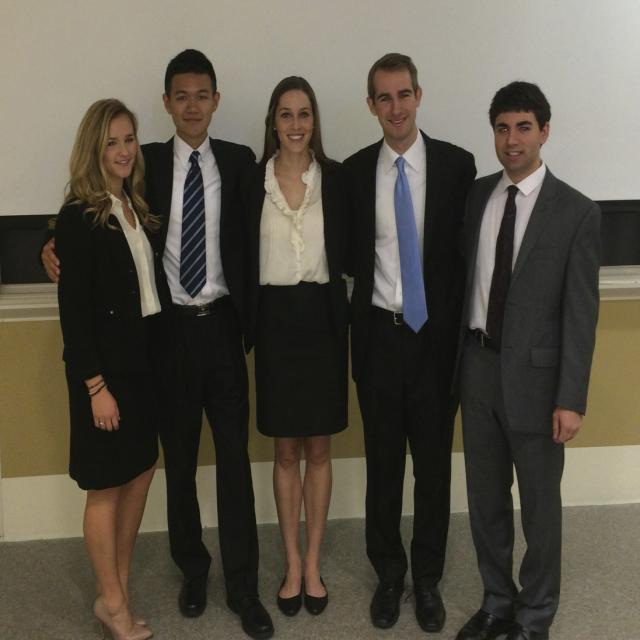body: (38, 45, 276, 639), (450, 80, 604, 640), (337, 48, 480, 638), (49, 97, 177, 639), (243, 72, 355, 618)
